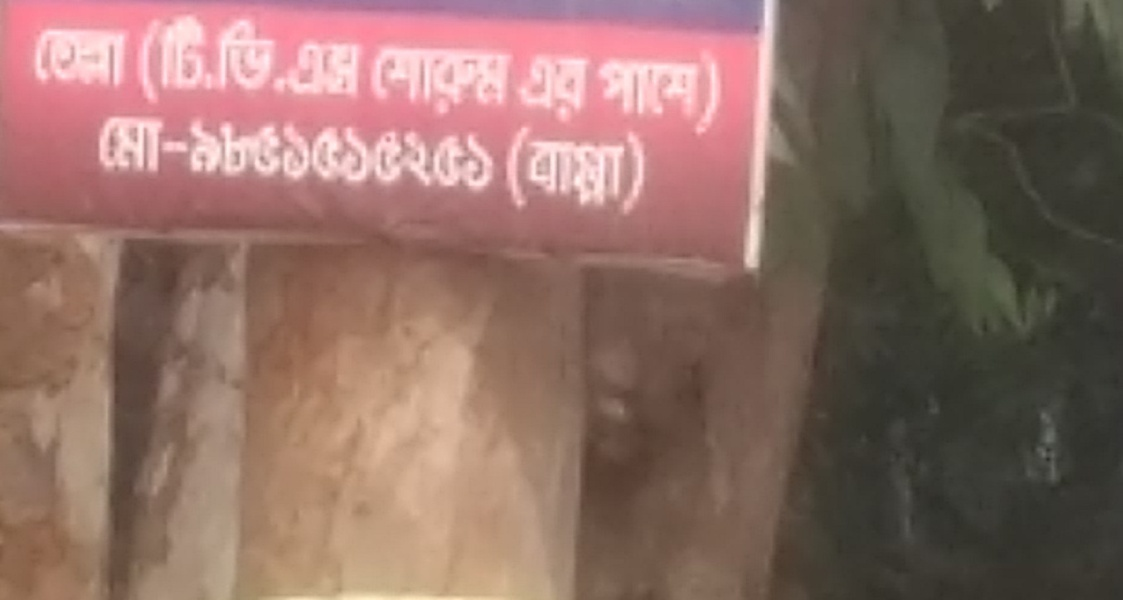text: (161, 2, 176, 105), (177, 2, 192, 105), (193, 2, 208, 105), (513, 125, 528, 228), (529, 125, 544, 228), (545, 125, 560, 228), (561, 125, 576, 228), (577, 125, 592, 228), (593, 125, 608, 228), (609, 125, 624, 228), (625, 125, 640, 228), (641, 125, 656, 228), (146, 2, 160, 105), (721, 51, 737, 137), (609, 51, 624, 137), (625, 51, 640, 137), (641, 51, 656, 137), (657, 51, 672, 137), (673, 51, 688, 137), (689, 51, 704, 137), (705, 51, 720, 137), (209, 2, 221, 105), (225, 18, 240, 98), (241, 18, 256, 98), (257, 18, 272, 98), (193, 115, 208, 195), (209, 115, 224, 195), (225, 115, 240, 195), (241, 115, 256, 195), (257, 115, 272, 195), (273, 115, 288, 195), (289, 115, 304, 195), (305, 115, 320, 195), (321, 115, 336, 195), (337, 115, 352, 195), (353, 115, 368, 195), (369, 115, 384, 195), (385, 115, 400, 195), (401, 115, 416, 195), (417, 115, 432, 195), (433, 115, 448, 195), (449, 115, 464, 195), (465, 115, 480, 195), (481, 115, 496, 195), (33, 26, 48, 102), (49, 26, 64, 102), (65, 26, 80, 102), (81, 26, 96, 102), (97, 26, 112, 102), (113, 26, 128, 102), (385, 45, 400, 121), (401, 45, 416, 121), (417, 45, 432, 121), (433, 45, 448, 121), (449, 45, 464, 121), (465, 45, 480, 121), (481, 45, 496, 121), (497, 45, 512, 121), (273, 18, 287, 98), (529, 52, 544, 125), (545, 52, 560, 125), (561, 52, 576, 125), (577, 52, 592, 125), (113, 115, 128, 176), (129, 115, 144, 176), (145, 115, 160, 176), (161, 115, 176, 176), (305, 39, 320, 99), (321, 39, 336, 99), (337, 39, 352, 99), (177, 115, 191, 176), (99, 115, 112, 176), (291, 39, 304, 99), (374, 45, 384, 121), (600, 51, 608, 137), (353, 39, 363, 99), (507, 125, 512, 228), (220, 18, 224, 98), (188, 115, 192, 195), (28, 26, 32, 102), (524, 52, 528, 125), (513, 45, 516, 121), (593, 52, 595, 125), (657, 125, 658, 228), (497, 115, 498, 195)
